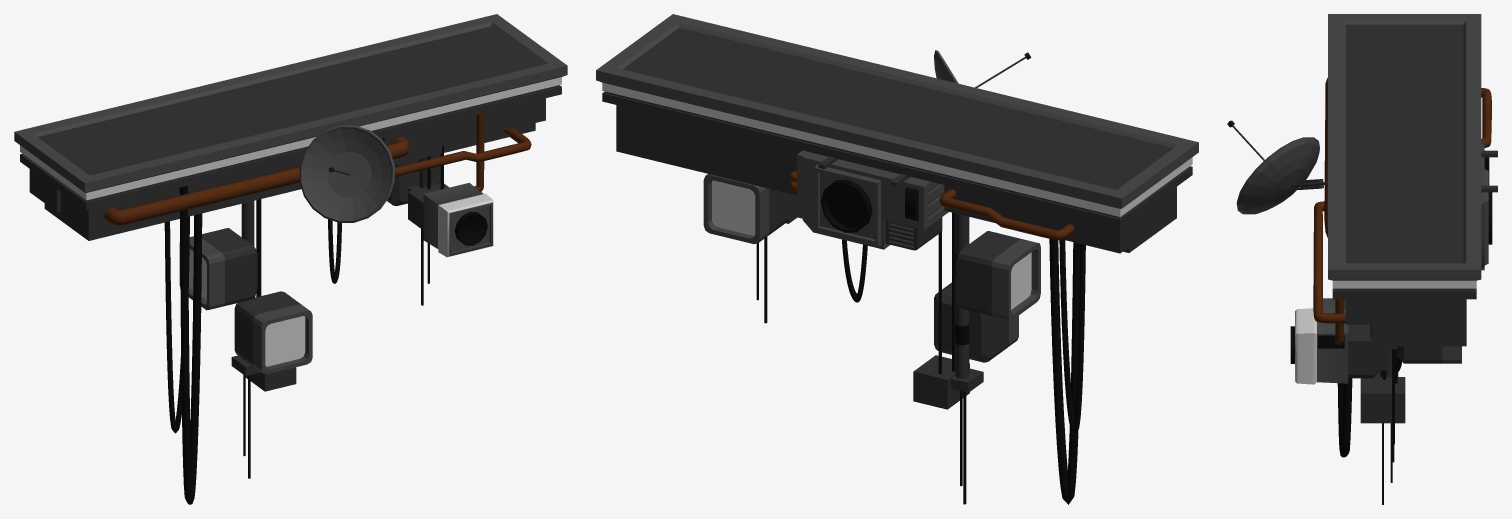
Rendered from Platform_4x1_Cube.obj.
3 renders of one model, left to right at view 1: azimuth 30°, elevation 25°; view 2: azimuth 150°, elevation 25°; view 3: azimuth 270°, elevation 25°, orthographic. The views are drawn at different scales.
Visible parts, largest first — view 1: Platform_4x1_Cube.065; view 2: Platform_4x1_Cube.065; view 3: Platform_4x1_Cube.065.
Boxes of the visible parts, x1,y1,x2,y2 form: Platform_4x1_Cube.065: (14,14,567,504); Platform_4x1_Cube.065: (596,14,1198,504); Platform_4x1_Cube.065: (1227,14,1497,504).
Bounding box in the file's own units: 3.86 × 2.81 × 1.73.
